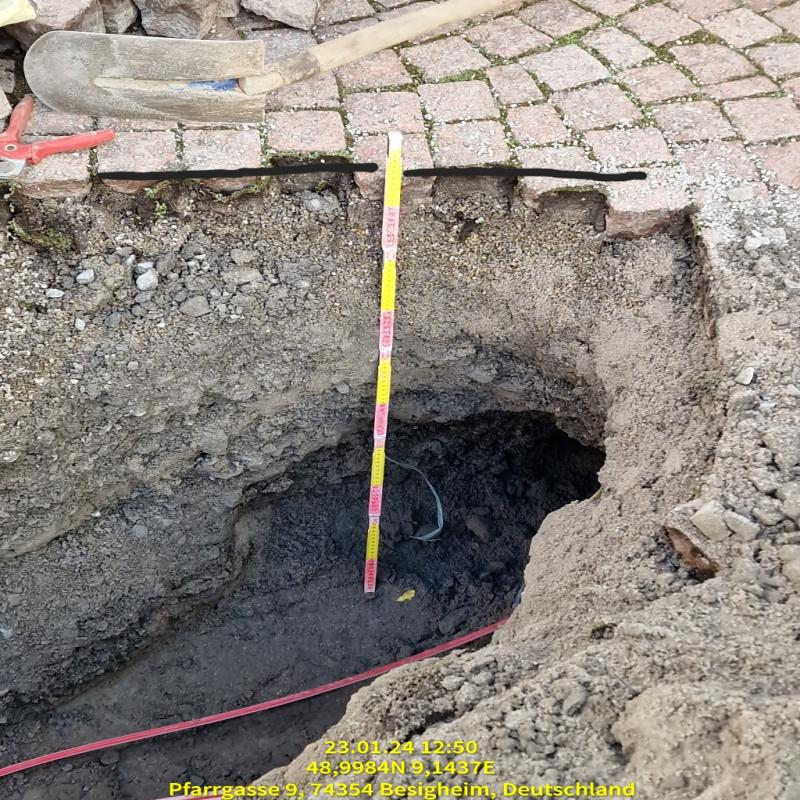Orang-Speednetrohrchen: (0, 619, 506, 777)
